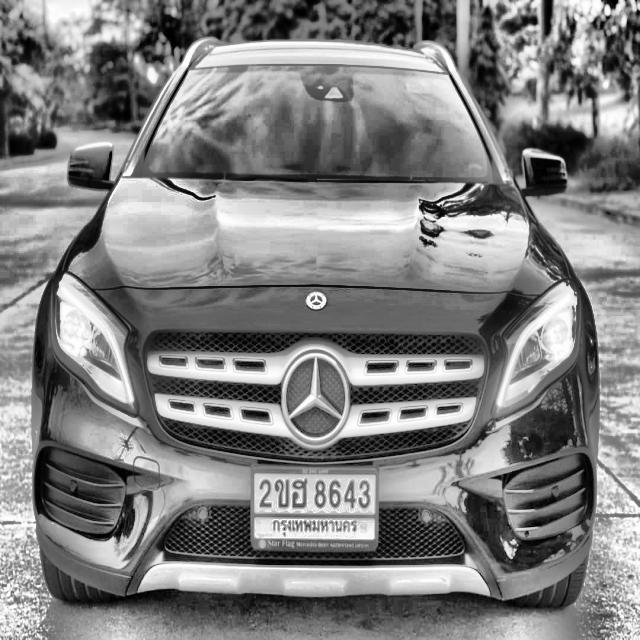license-plate: (248, 464, 378, 554)
